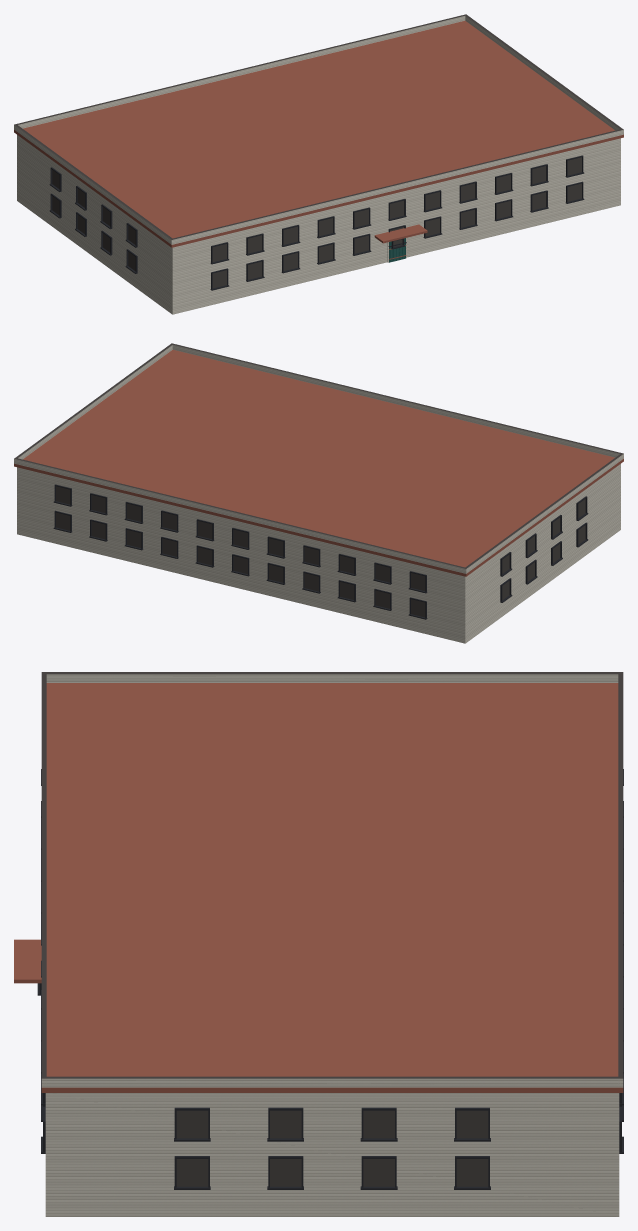
File: cyxd_north_shop.gltf
3 renders of one model, top to bottom at view 1: azimuth 30°, elevation 25°; view 2: azimuth 150°, elevation 25°; view 3: azimuth 270°, elevation 25°, orthographic. The views are drawn at different scales.
Parts seen in each view (by area): view 1: cyxd_north_shop; view 2: cyxd_north_shop; view 3: cyxd_north_shop.
Part boxes in pixels (x1,y1,x2,y2): cyxd_north_shop: (14,14,623,314); cyxd_north_shop: (14,343,623,643); cyxd_north_shop: (14,672,623,1216).
Size of the model in its own units: 48.73 by 7.8 by 30.84.
